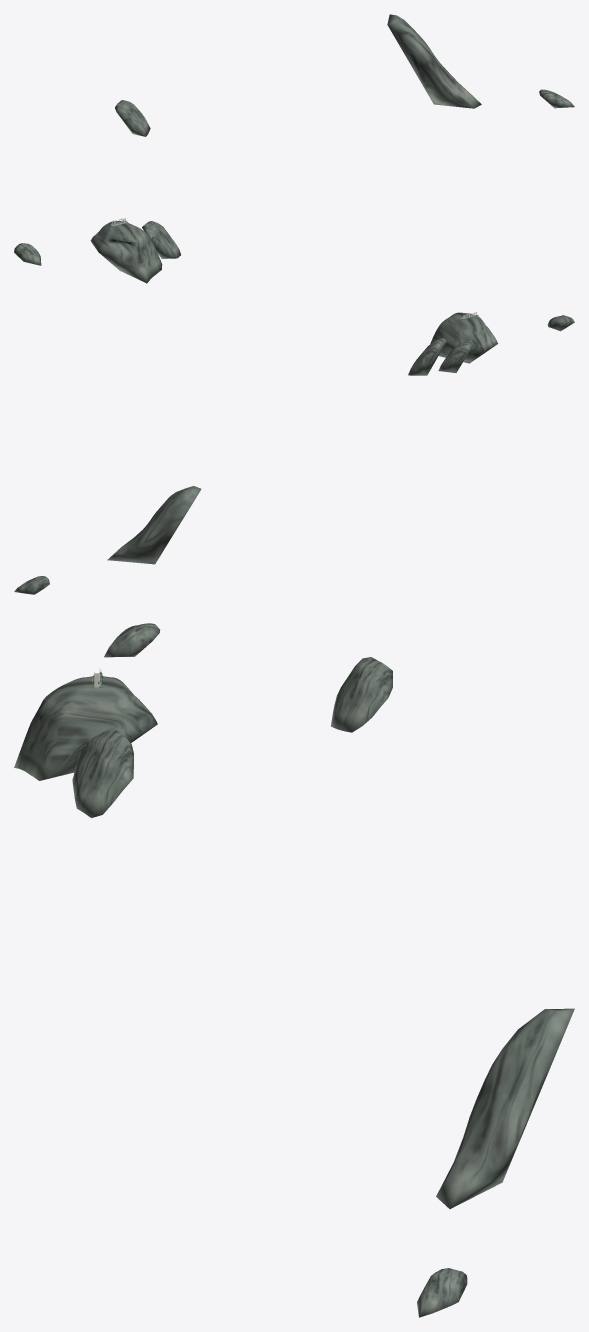
Rendered from co-to-mid.glb.
The picture shows the model from 3 angles, top to bottom: view 1: azimuth 30°, elevation 25°; view 2: azimuth 210°, elevation 25°; view 3: azimuth 270°, elevation 25°; orthographic projection. The views are drawn at different scales.
Parts seen in each view (by area): view 1: co-to-mid; view 2: co-to-mid; view 3: co-to-mid.
Part boxes in pixels (x1,y1,x2,y2): co-to-mid: (14, 14, 574, 283); co-to-mid: (14, 312, 574, 594); co-to-mid: (14, 623, 574, 1317).
Bounding box in the file's own units: 1582 × 309 × 654.
1 material, 1 textured.
